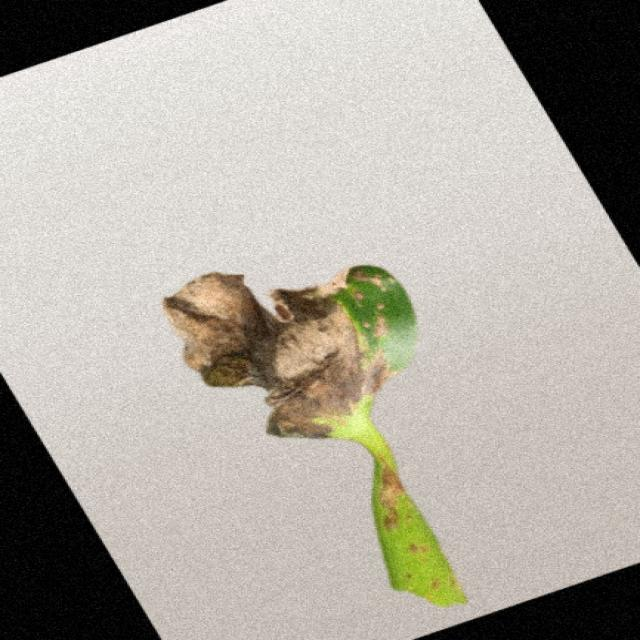daun berpenyakit karat: (164, 266, 466, 606)
